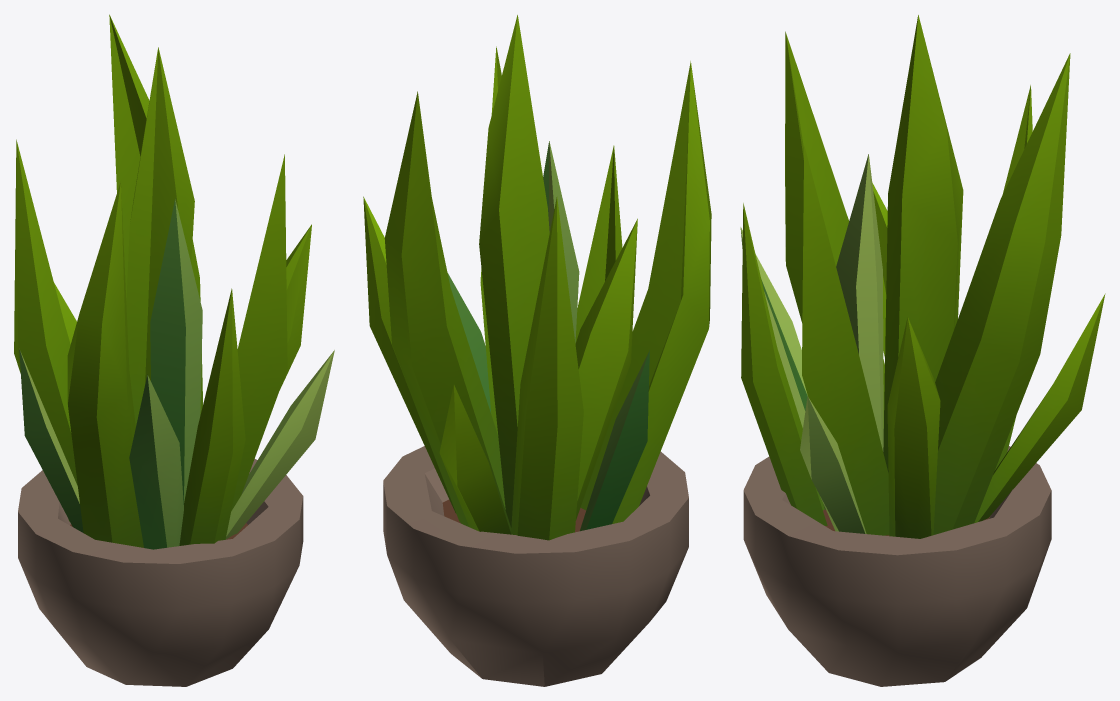
File: SM_Props_Plant_02.fbx
The picture shows the model from 3 angles, left to right: view 1: azimuth 30°, elevation 25°; view 2: azimuth 150°, elevation 25°; view 3: azimuth 270°, elevation 25°; orthographic projection. The views are drawn at different scales.
Visible parts, largest first — view 1: SM_Props_Plant_02; view 2: SM_Props_Plant_02; view 3: SM_Props_Plant_02.
Boxes of the visible parts, x1=… form: SM_Props_Plant_02: x1=14, y1=14, x2=334, y2=686; SM_Props_Plant_02: x1=363, y1=15, x2=711, y2=686; SM_Props_Plant_02: x1=740, y1=15, x2=1105, y2=686.
Size of the model in its own units: 0.4774 by 0.9656 by 0.4976.
